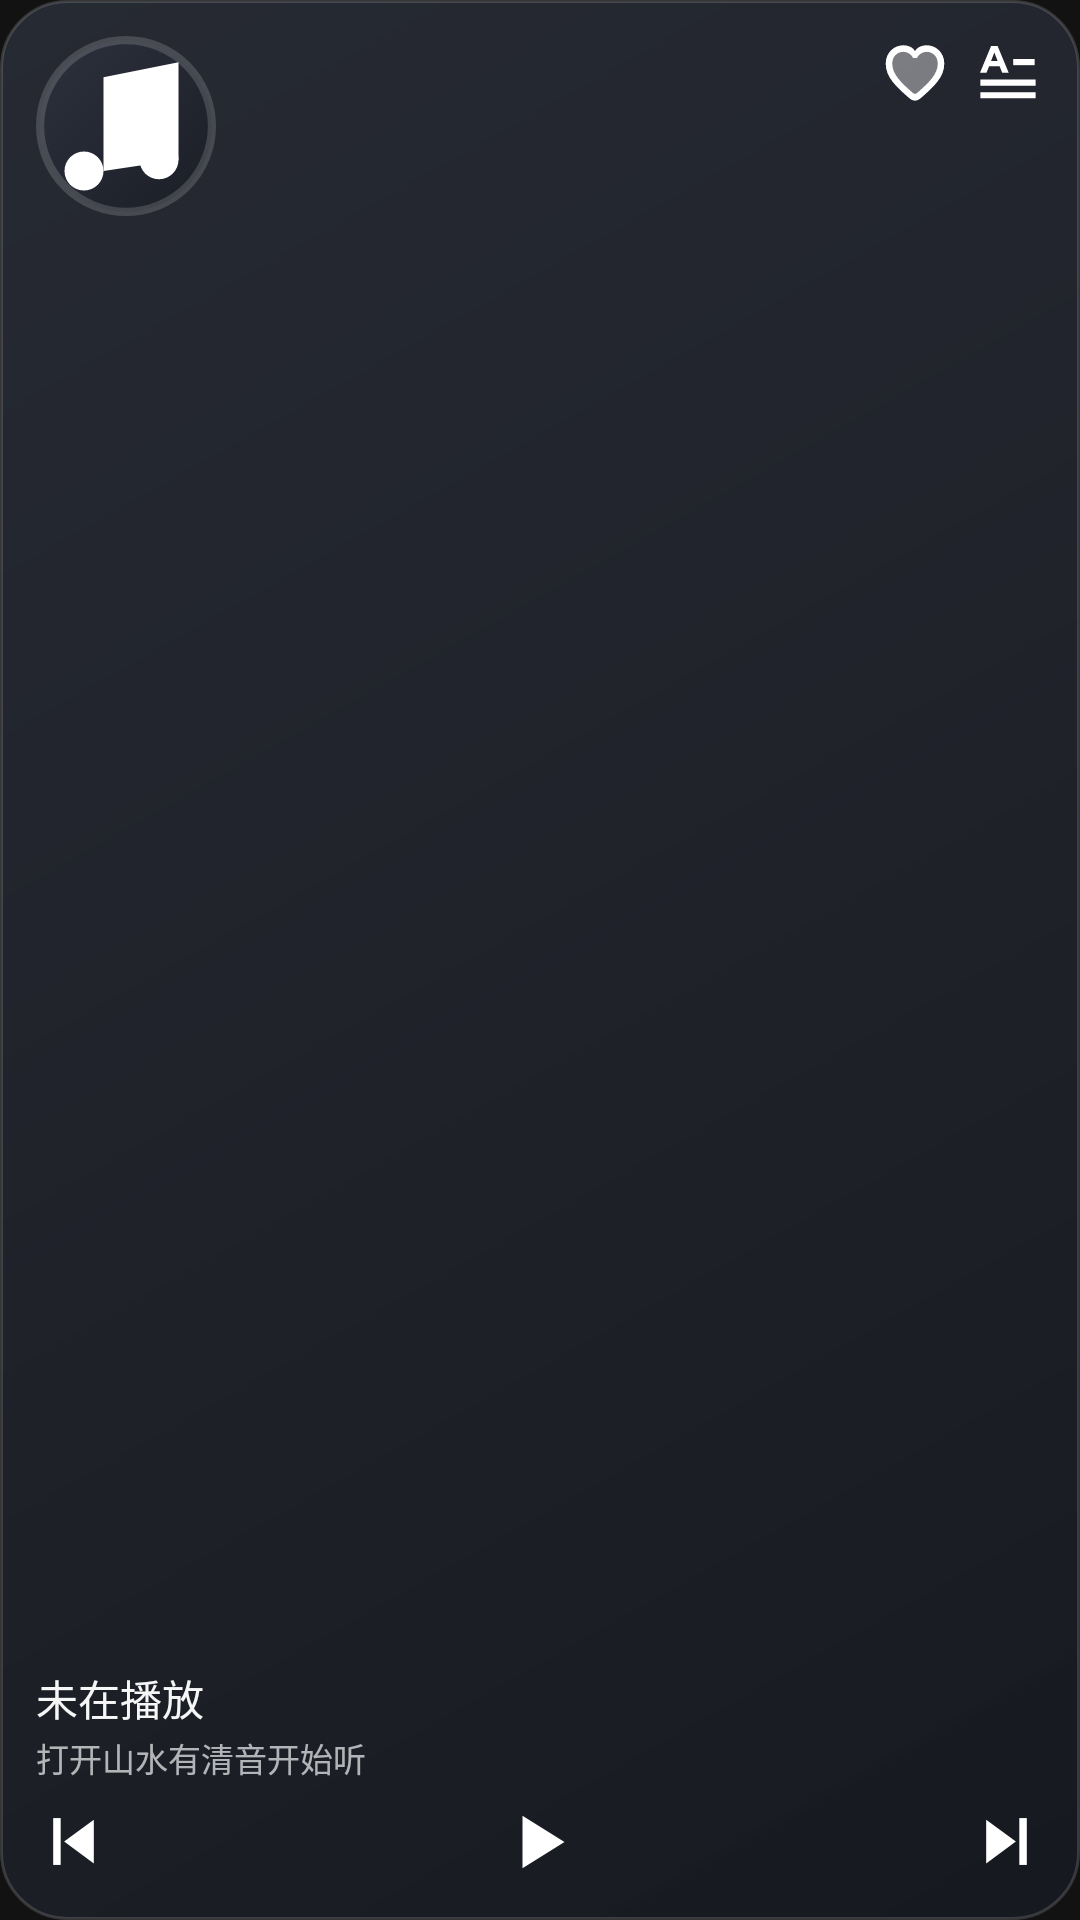

Locate icon controls on the screen. Image size 1080×1920, boxes as {"x1": x1, "y1": y1, "x2": x2, "y2": y2}.
上一首: {"x1": 53, "y1": 1818, "x2": 94, "y2": 1865}
下一首: {"x1": 986, "y1": 1818, "x2": 1027, "y2": 1865}
播放或暂停: {"x1": 522, "y1": 1816, "x2": 564, "y2": 1868}
收藏或取消收藏: {"x1": 885, "y1": 45, "x2": 945, "y2": 101}
显示或隐藏歌词: {"x1": 980, "y1": 46, "x2": 1036, "y2": 99}
